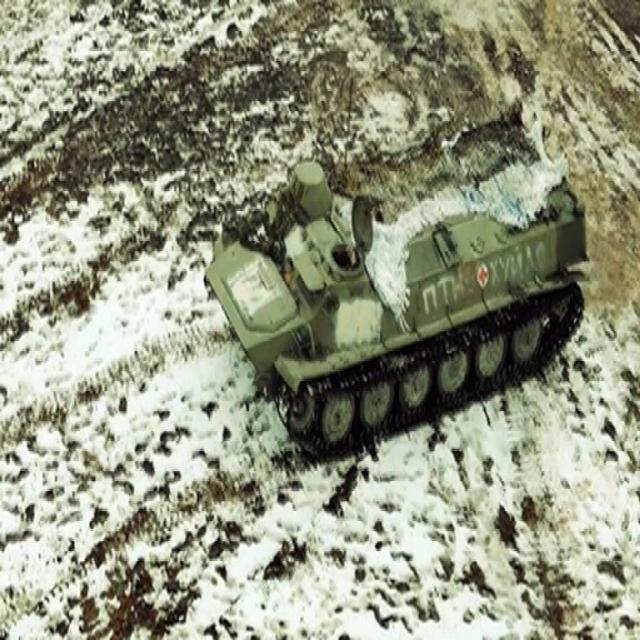APC-IFV: (204, 80, 601, 467)
